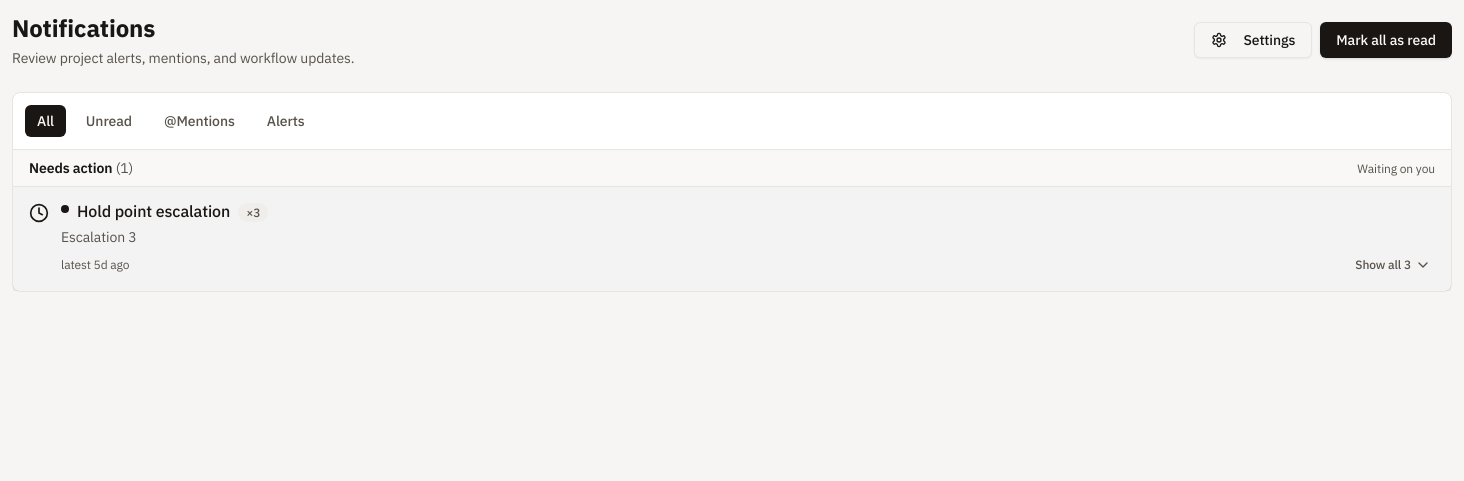
Scenario: NotificationsPage › collapses a repeat group into one row with a count and expands on demand
Expected: the text "Hold point escalation" is shown, [77,201,230,221]
Expected: the text "×3" is shown, [238,203,268,222]
Click the button "Show all 3" at (1393, 265), box [1343,243,1443,287]
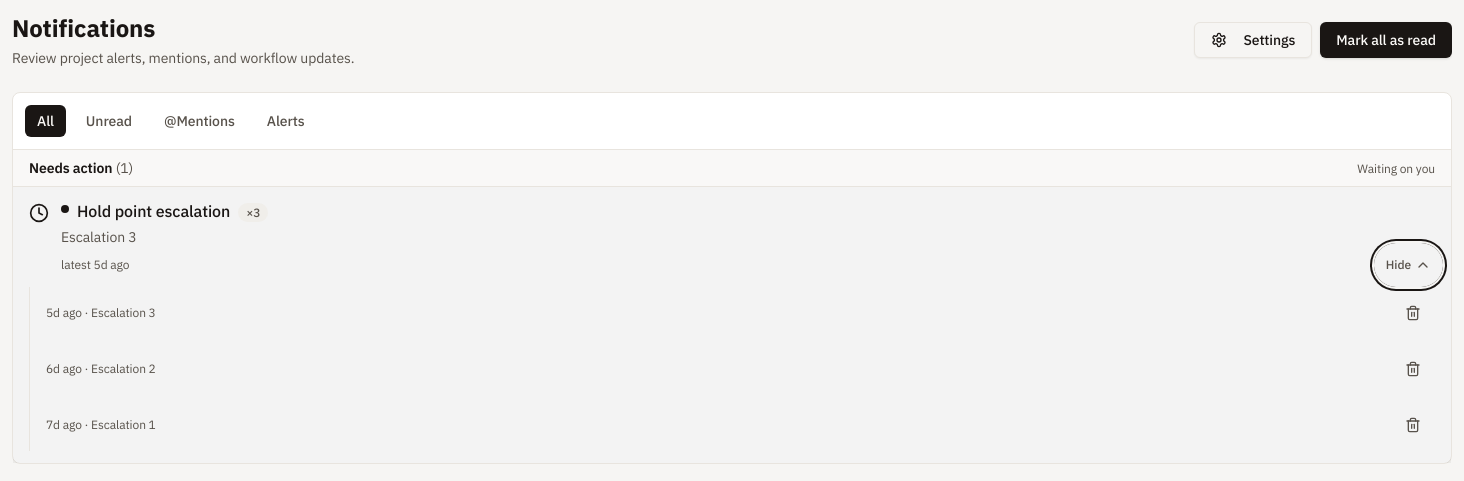
Result: the text "7d ago · Escalation 1" is shown at [46,417,156,433]
Result: the text "6d ago · Escalation 2" is shown at [46,361,156,377]
